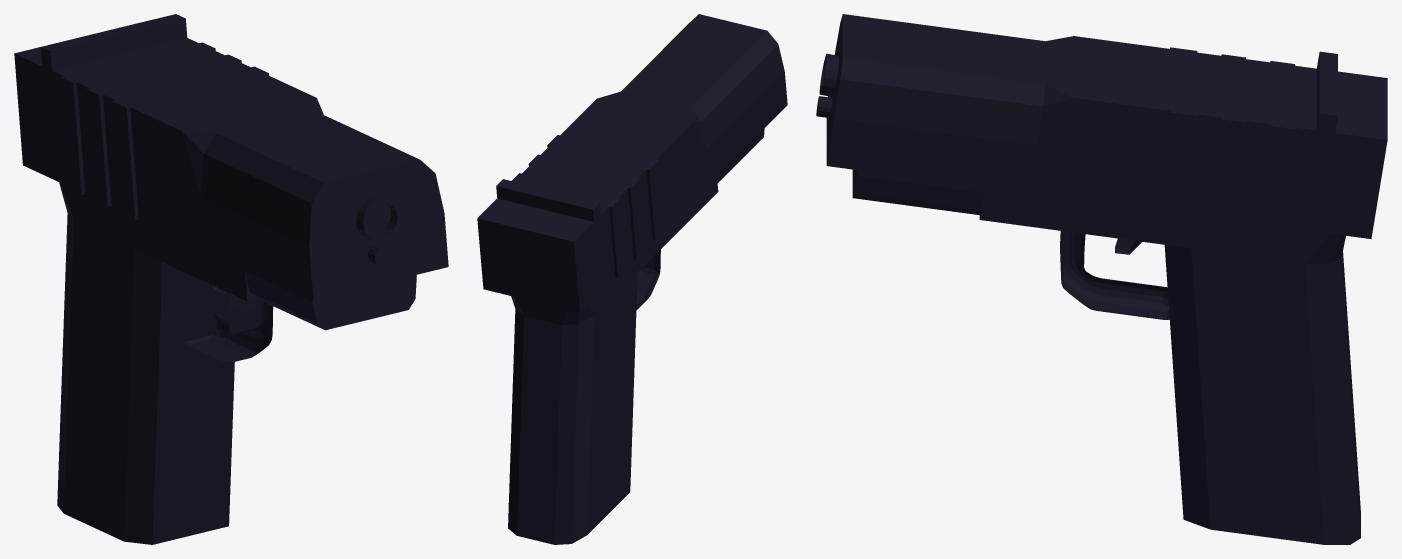
File: pistolanimada.fbx
The picture shows the model from 3 angles, left to right: view 1: azimuth 30°, elevation 25°; view 2: azimuth 150°, elevation 25°; view 3: azimuth 270°, elevation 25°; orthographic projection. The views are drawn at different scales.
Parts seen in each view (by area): view 1: Cylinder; view 2: Cylinder; view 3: Cylinder.
Part boxes in pixels (left/top/right/bottom): Cylinder: left=14, top=14, right=448, bottom=544; Cylinder: left=477, top=14, right=787, bottom=544; Cylinder: left=816, top=14, right=1387, bottom=544.
Size of the model in its own units: 5.87 by 20.6 by 21.76.
1 material, 1 textured.
